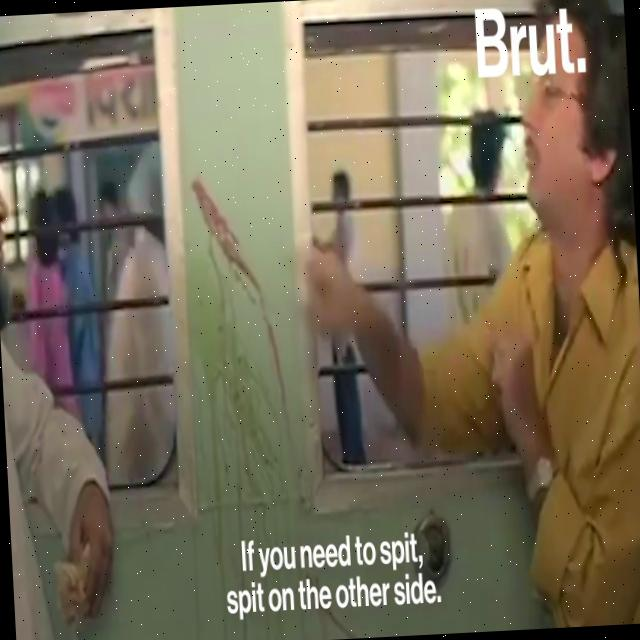spit: (190, 178, 306, 514)
